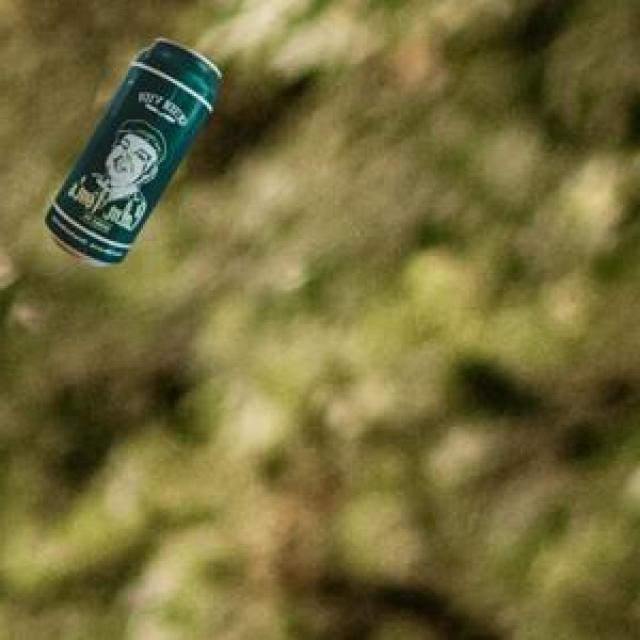logam: (48, 35, 225, 263)
